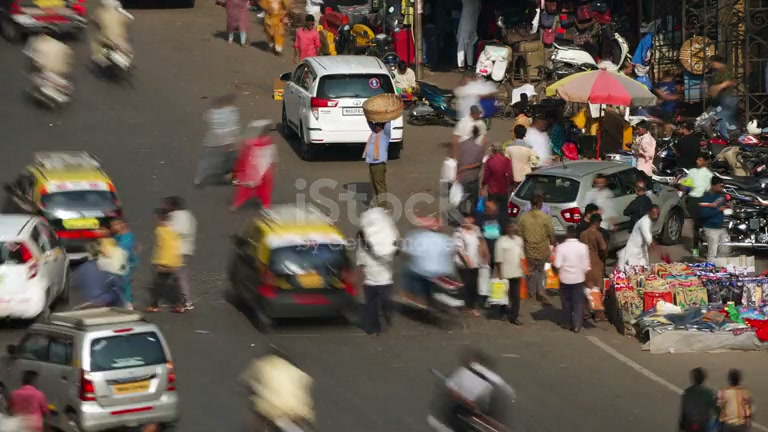car: (2, 306, 180, 430), (224, 178, 362, 334), (505, 157, 689, 247), (3, 150, 126, 264), (276, 54, 404, 161), (506, 157, 637, 242), (0, 212, 72, 326), (0, 1, 87, 44)
motorcycle: (426, 352, 517, 432), (20, 32, 77, 111), (85, 1, 136, 80)
pedestrian: (398, 194, 465, 319), (353, 201, 400, 336), (229, 119, 280, 213), (148, 207, 191, 311), (518, 193, 557, 306), (672, 152, 714, 253), (553, 224, 591, 334), (452, 214, 491, 316), (578, 205, 611, 323), (494, 220, 529, 325), (478, 141, 515, 237), (454, 124, 486, 218), (7, 369, 54, 431), (696, 178, 731, 261), (679, 367, 720, 432), (618, 203, 658, 269), (362, 113, 391, 199), (716, 369, 755, 431), (294, 14, 322, 63)
